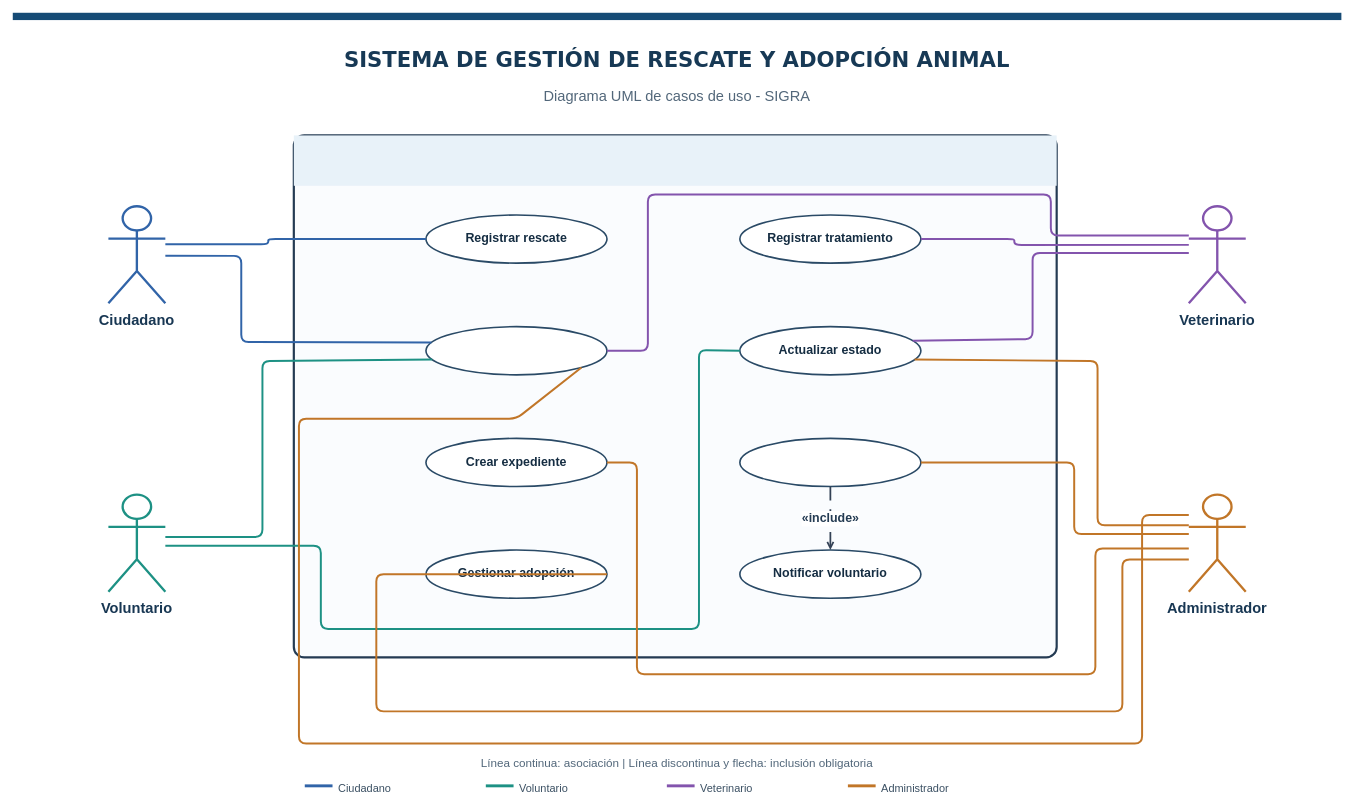
Image size: 1353x811. Some labels were removed from this diagram. Each missing label, with the centre of its shape:
"Asignar responsable" belongs at [830,462].
"Consultar reporte" belongs at [516,350].
"Sistema SIGRA" belongs at [674,160].
